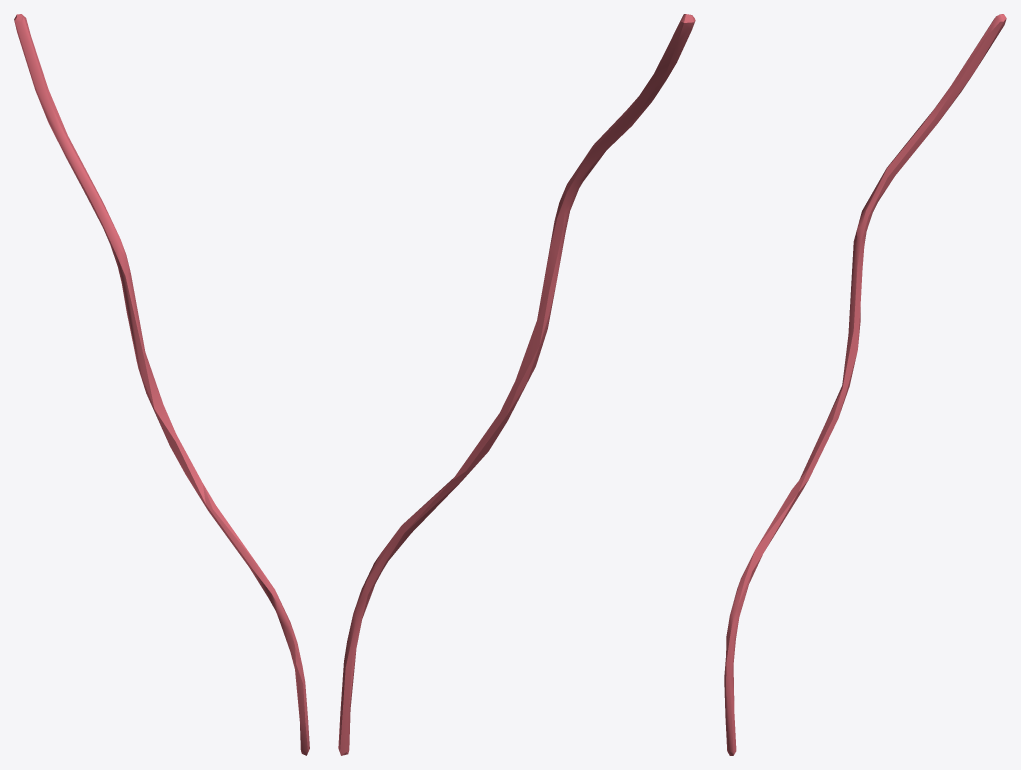
Rendered from fma14746_fj3626.glb.
3 renders of one model, left to right at view 1: azimuth 30°, elevation 25°; view 2: azimuth 210°, elevation 25°; view 3: azimuth 270°, elevation 25°, orthographic. The views are drawn at different scales.
Parts seen in each view (by area): view 1: FMA14746_FJ3626; view 2: FMA14746_FJ3626; view 3: FMA14746_FJ3626.
Boxes of the visible parts, <box> form: FMA14746_FJ3626: <box>14,14,309,755</box>; FMA14746_FJ3626: <box>338,14,695,755</box>; FMA14746_FJ3626: <box>724,14,1006,755</box>.
Size of the model in its own units: 0.0193 by 0.0788 by 0.0301.
